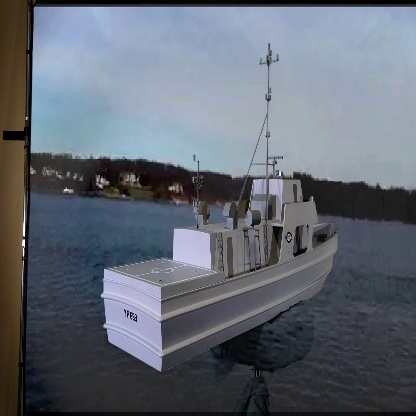YP689: (103, 43, 339, 373)
